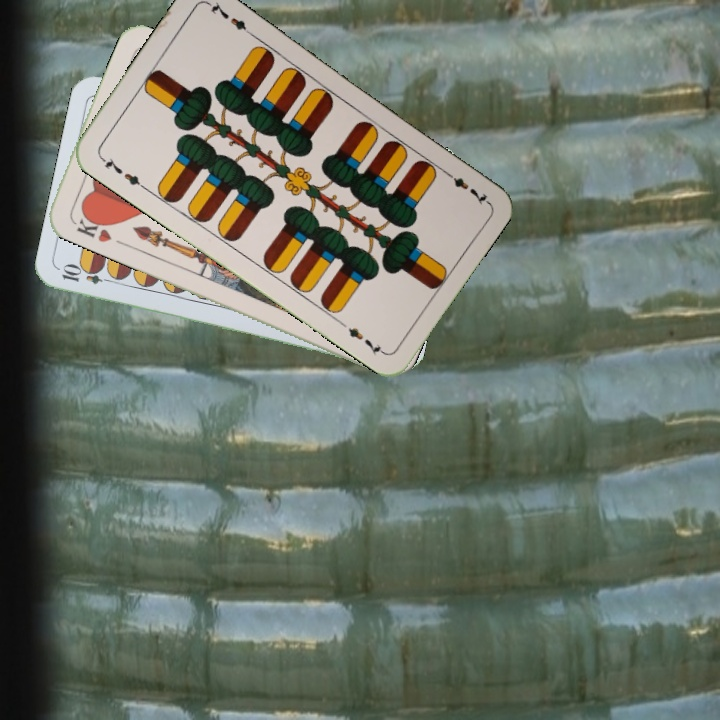E10: (58, 263, 117, 287)
E7: (439, 166, 491, 207), (96, 152, 148, 192)
HK: (67, 208, 115, 245)
